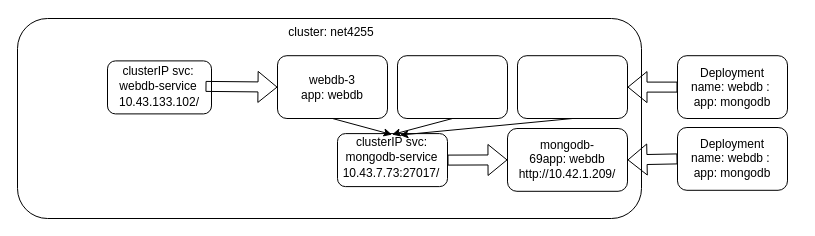
Some shapes in this 815 by 236 pixel diagram are drawn without their labels. The shapes that lost their labels are listed below. From the top down, each one's box as (x1, y1, x2, y2) in pixels, then its label:
(396, 55, 508, 118): webdb-2 app: webdb
(516, 55, 628, 118): webdb-1 app: webdb
